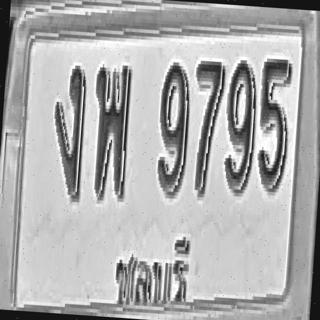A07: (48, 60, 88, 202)
A30: (88, 60, 133, 202)
N05: (254, 54, 292, 192)
N07: (187, 57, 226, 198)
N09: (154, 59, 193, 198), (222, 56, 259, 194)
P13: (106, 227, 200, 310)
